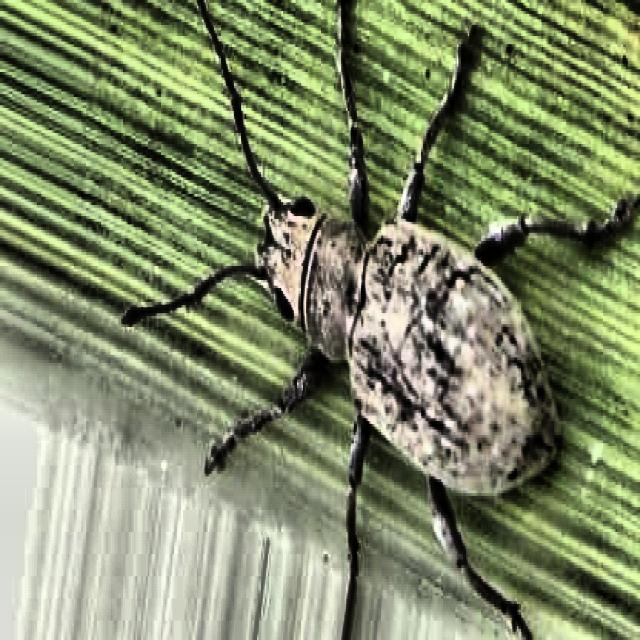Stink bug: (137, 81, 610, 557)
